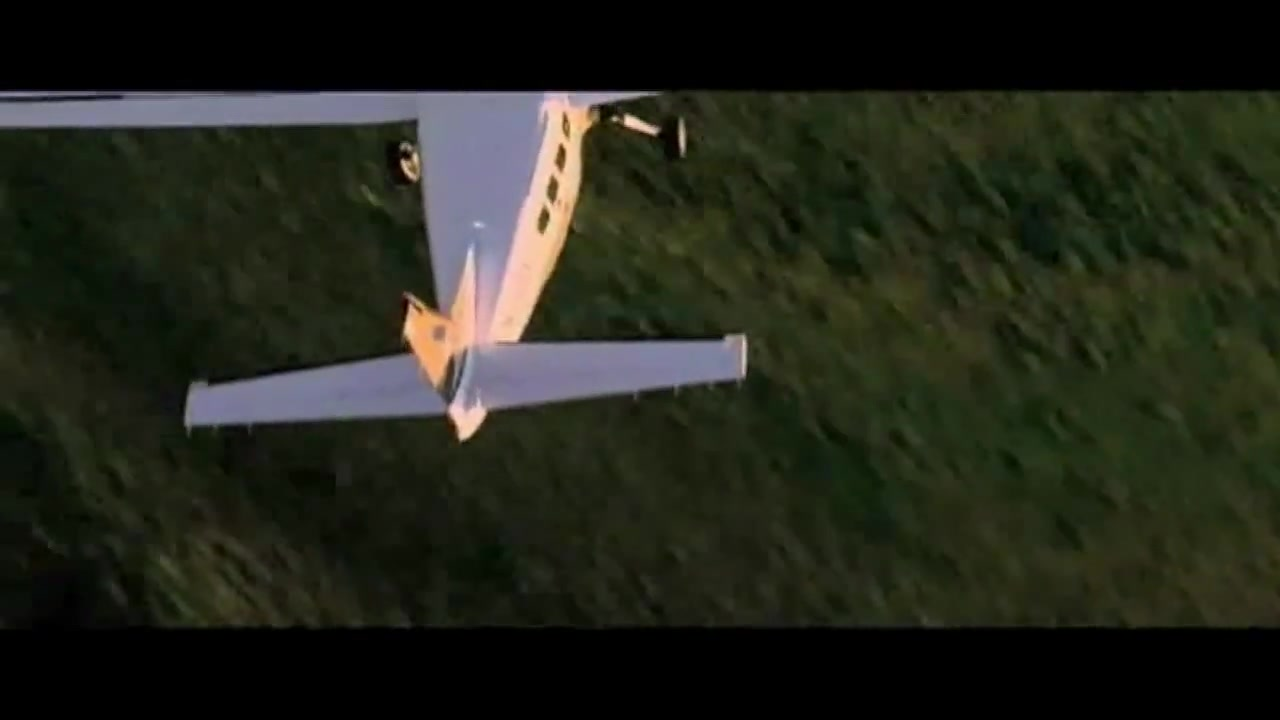aeroplane: (1, 92, 750, 444)
